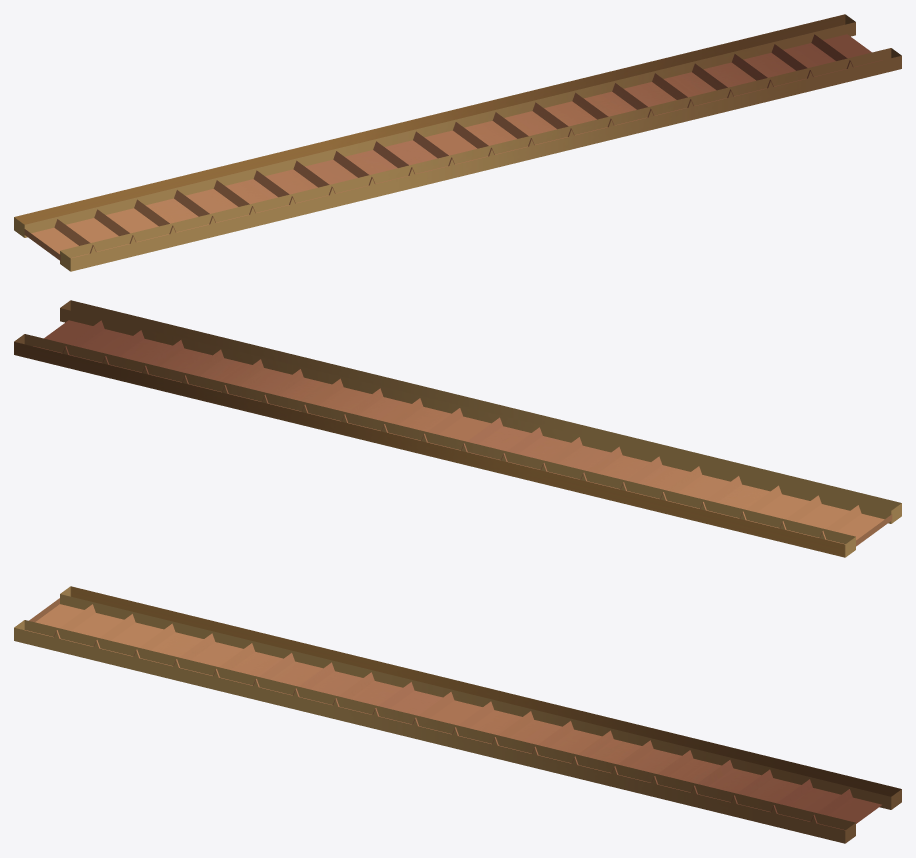
File: Taijie.FBX
The picture shows the model from 3 angles, top to bottom: view 1: azimuth 30°, elevation 25°; view 2: azimuth 150°, elevation 25°; view 3: azimuth 330°, elevation 25°; orthographic projection.
Visible parts, largest first — view 1: Object033; view 2: Object033; view 3: Object033.
Part boxes in pixels (x1,y1,x2,y2): Object033: (14, 14, 901, 271); Object033: (14, 300, 901, 557); Object033: (14, 586, 901, 843).
Bounding box in the file's own units: 36.22 × 0.5534 × 4.27.
Materials: 1 (1 with a texture image).
